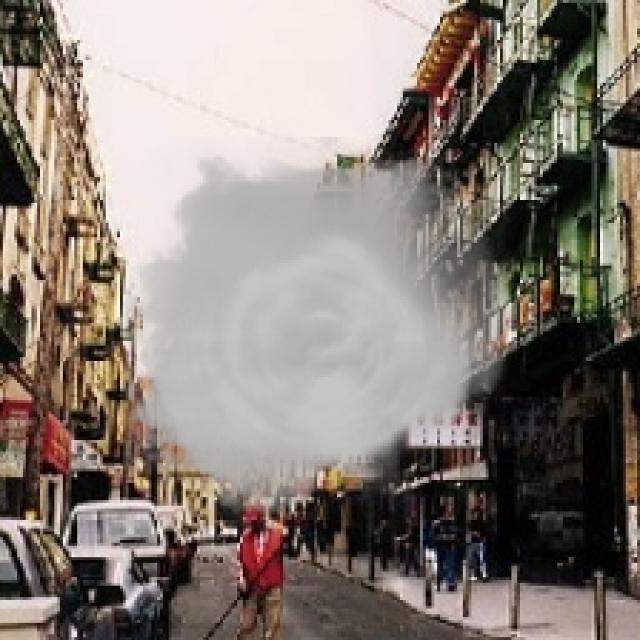Smoke: (122, 137, 512, 529)
